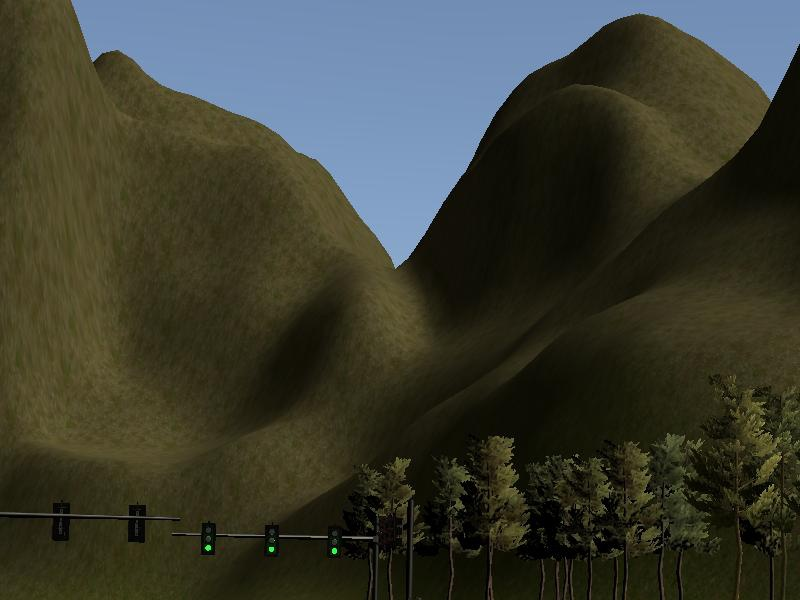green_light: (201, 524, 214, 555), (328, 526, 341, 557), (266, 525, 278, 557)
